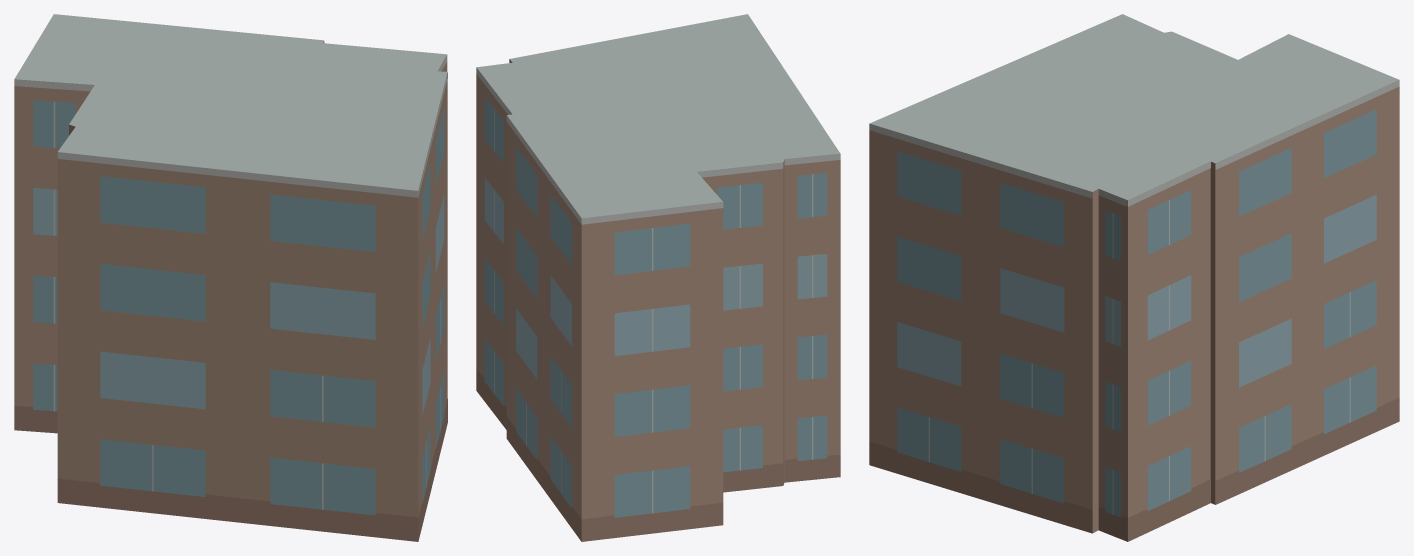
File: survey-upis-32725974.glb
3 views of the same model, side by side, from view 1: azimuth 30°, elevation 25°; view 2: azimuth 150°, elevation 25°; view 3: azimuth 270°, elevation 25° (orthographic). The views are drawn at different scales.
Parts seen in each view (by area): view 1: survey-upis-32725974.tmp; view 2: survey-upis-32725974.tmp; view 3: survey-upis-32725974.tmp.
Part boxes in pixels (<box>): survey-upis-32725974.tmp: <box>14,14,447,541</box>; survey-upis-32725974.tmp: <box>476,14,840,541</box>; survey-upis-32725974.tmp: <box>869,14,1399,541</box>.
Size of the model in its own units: 14.75 by 12.6 by 17.74.
